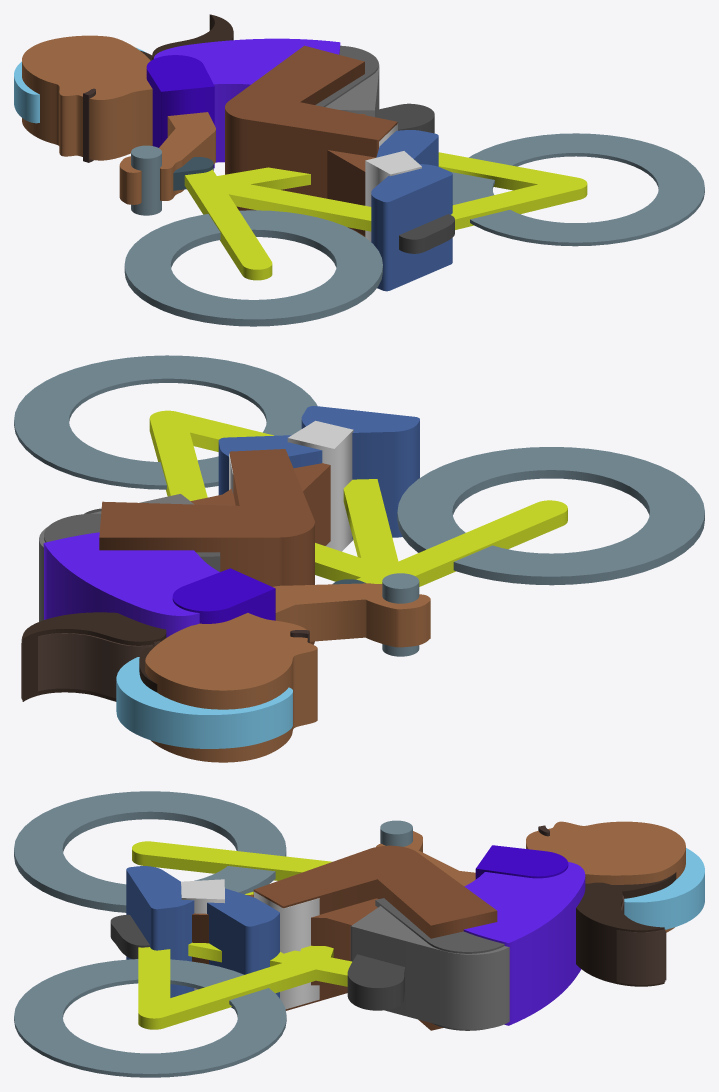
Rendered from emoji_u1f6b4_1f3fe_200d_2640.glb.
The picture shows the model from 3 angles, top to bottom: view 1: azimuth 30°, elevation 25°; view 2: azimuth 150°, elevation 25°; view 3: azimuth 270°, elevation 25°; orthographic projection. The views are drawn at different scales.
Parts seen in each view (by area): view 1: emoji_u1f6b4_1f3fe_200d_2640; view 2: emoji_u1f6b4_1f3fe_200d_2640; view 3: emoji_u1f6b4_1f3fe_200d_2640.
Boxes of the visible parts, x1=… form: emoji_u1f6b4_1f3fe_200d_2640: x1=14, y1=14, x2=704, y2=326; emoji_u1f6b4_1f3fe_200d_2640: x1=14, y1=355, x2=704, y2=762; emoji_u1f6b4_1f3fe_200d_2640: x1=14, y1=791, x2=704, y2=1077.
Bounding box in the file's own units: 0.0321 × 0.0056 × 0.0334.
